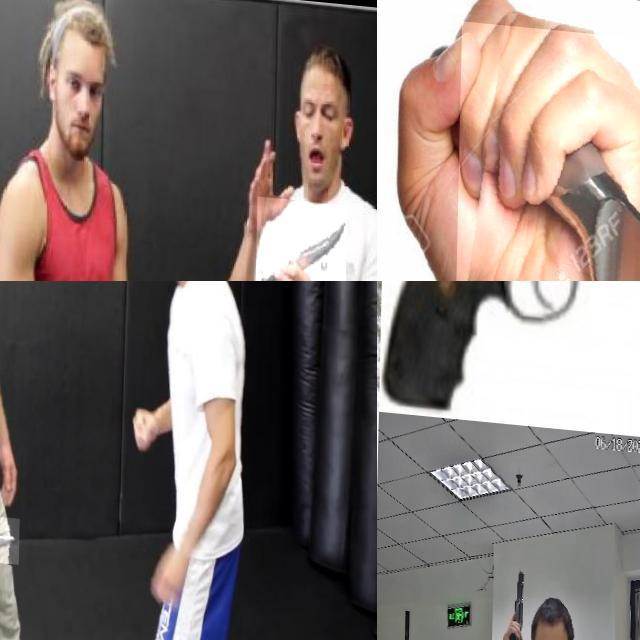-: (453, 18, 640, 281), (256, 188, 348, 281), (0, 507, 44, 559)
gun-knife-thesis - v11 Yolov5 augmented: (381, 281, 640, 442), (377, 388, 530, 640), (377, 281, 527, 425), (507, 558, 529, 640)
